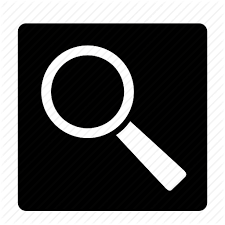searchIcon: (38, 42, 190, 192)
